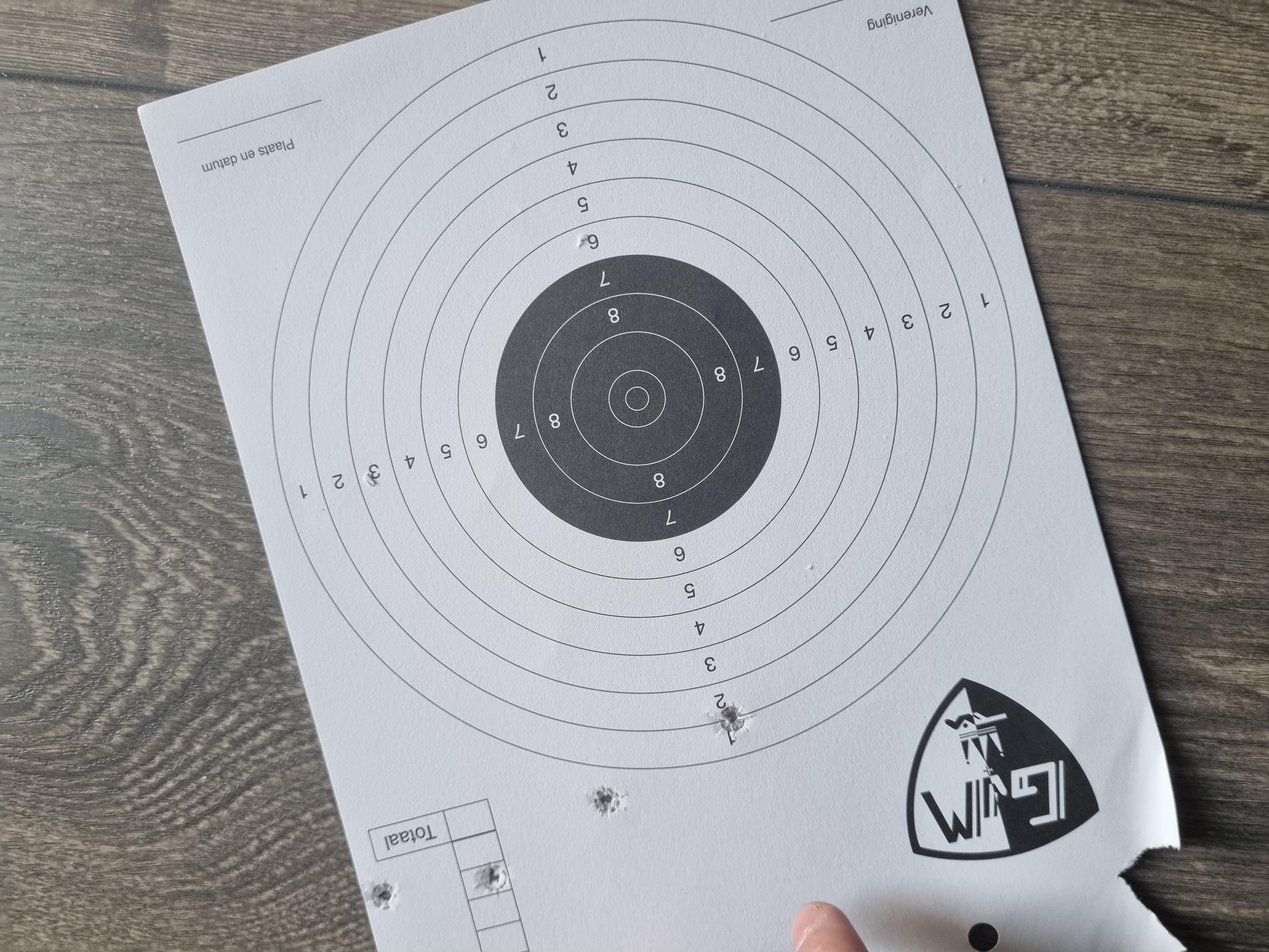hole: (288, 535, 333, 566), (73, 356, 119, 382), (183, 444, 221, 470), (56, 278, 93, 298)
